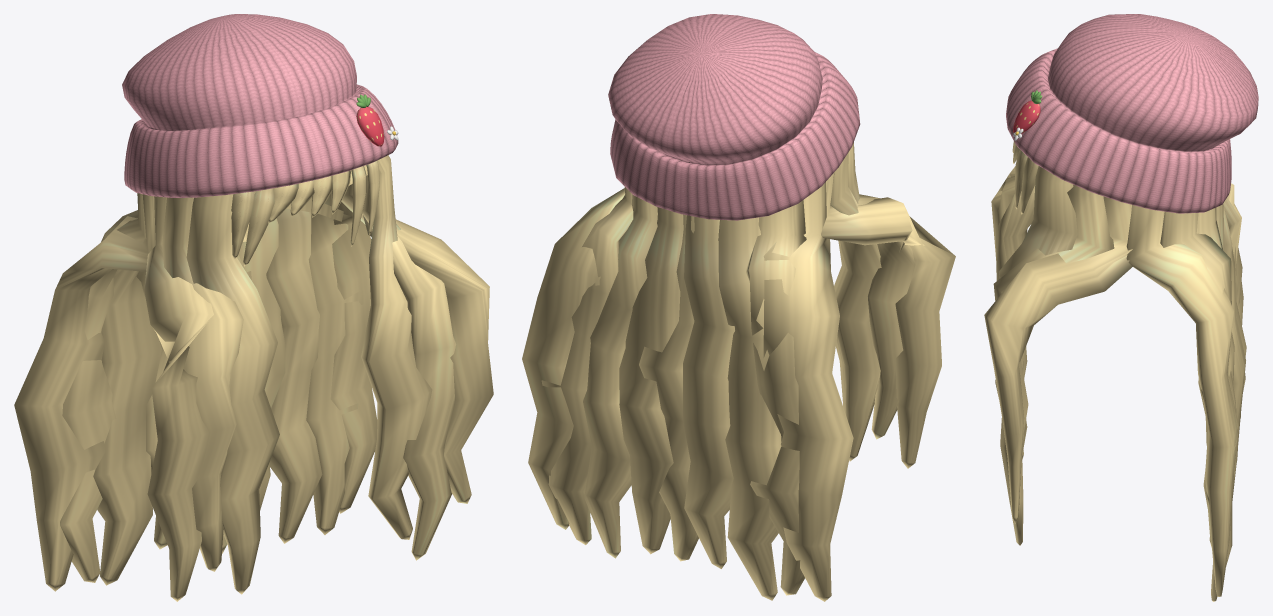
The model's file is SB_HairBeanieCombo.fbx.
The picture shows the model from 3 angles, left to right: view 1: azimuth 30°, elevation 25°; view 2: azimuth 150°, elevation 25°; view 3: azimuth 270°, elevation 25°; orthographic projection. The views are drawn at different scales.
Visible parts, largest first — view 1: SB_HairBeanieCombo; view 2: SB_HairBeanieCombo; view 3: SB_HairBeanieCombo.
Boxes of the visible parts, box(x1,y1,x2,y2) form: SB_HairBeanieCombo: box(14, 14, 493, 601); SB_HairBeanieCombo: box(522, 14, 955, 601); SB_HairBeanieCombo: box(984, 14, 1258, 601).
Bounding box in the file's own units: 2.49 × 3.73 × 1.76.
1 material, 1 textured.
